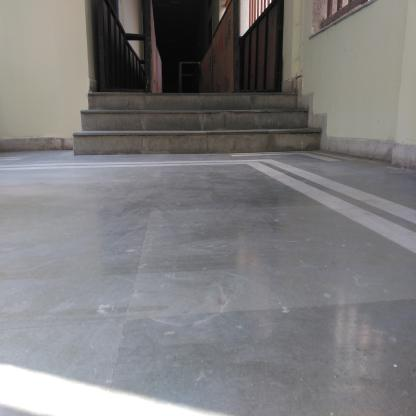stairs: (93, 90, 297, 160)
